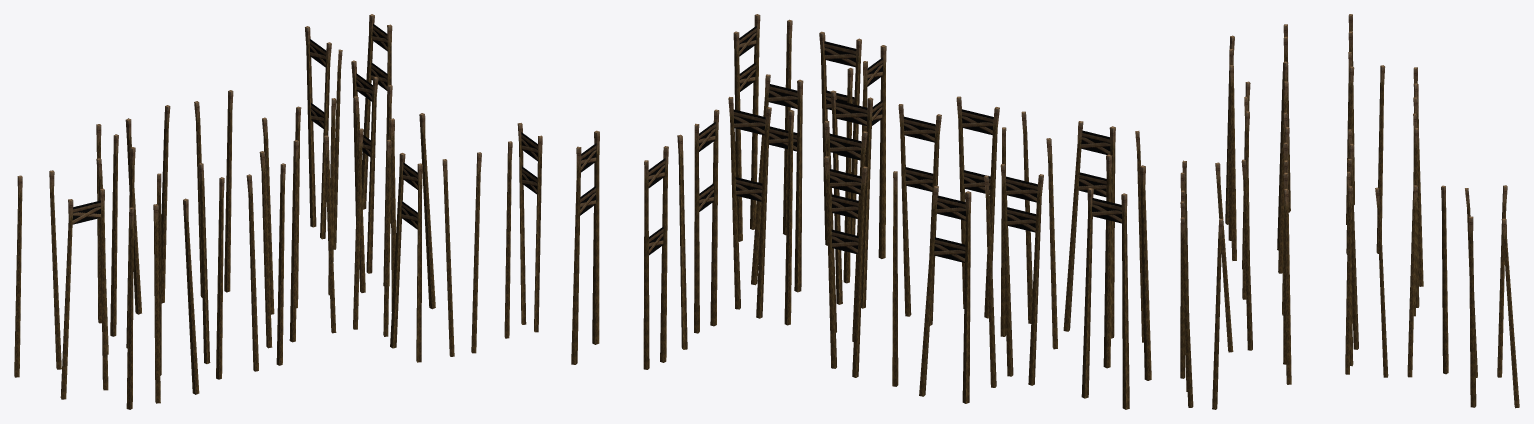
The model's file is ti_port_dock.glb.
3 views of the same model, side by side, from view 1: azimuth 30°, elevation 25°; view 2: azimuth 150°, elevation 25°; view 3: azimuth 270°, elevation 25° (orthographic). The views are drawn at different scales.
Parts seen in each view (by area): view 1: TI_Port_Dock; view 2: TI_Port_Dock; view 3: TI_Port_Dock.
Boxes of the visible parts, x1,y1,x2,y2 form: TI_Port_Dock: (14, 14, 542, 409); TI_Port_Dock: (571, 14, 1151, 409); TI_Port_Dock: (1180, 14, 1519, 409).
Bounding box in the file's own units: 23.84 × 10.48 × 16.65.
4 materials, 4 textured.
